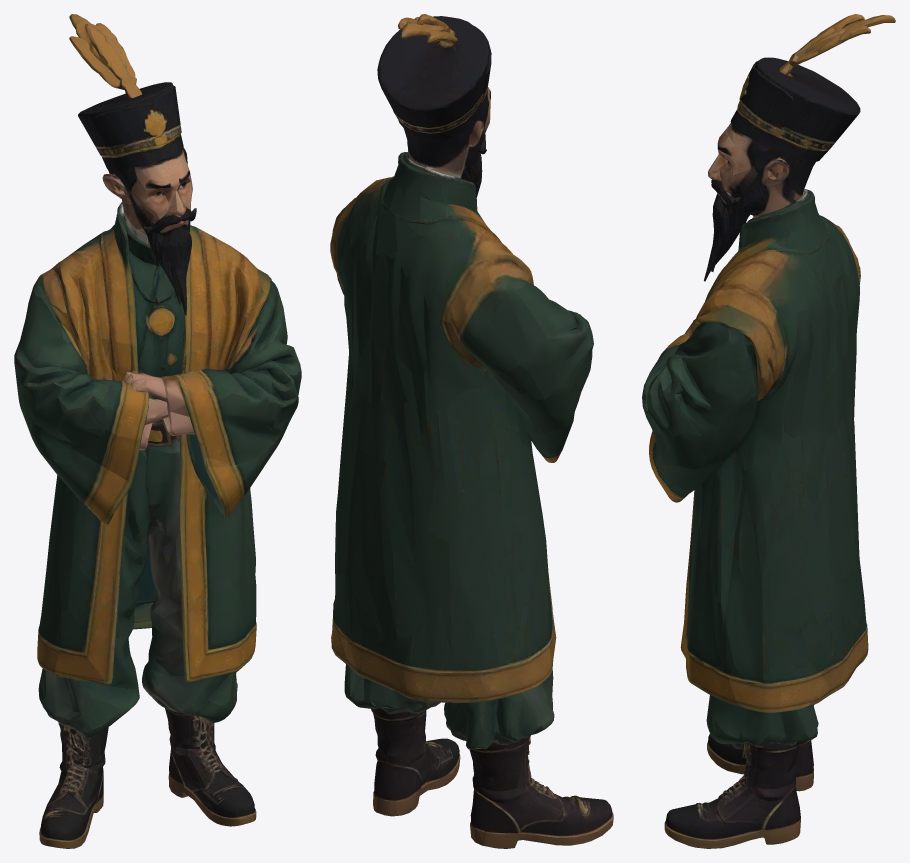
The model's file is longfeng.glb.
3 views of the same model, side by side, from view 1: azimuth 30°, elevation 25°; view 2: azimuth 150°, elevation 25°; view 3: azimuth 270°, elevation 25° (orthographic). The views are drawn at different scales.
Size of the model in its own units: 0.6323 by 1.9 by 0.553.
1 material, 1 textured.
